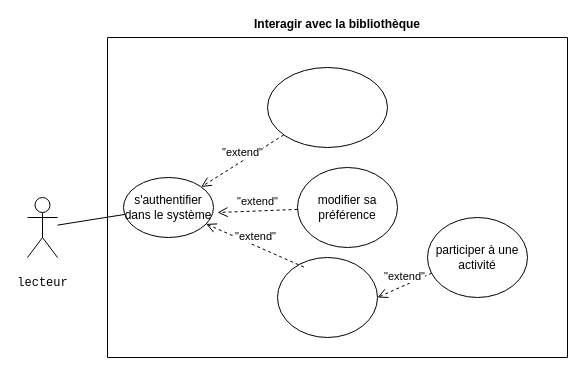
This 585x375 diagram has some shape labels left out. Each missing label, with the centre of its shape:
consulter des activités: point (327, 297)
réserver un livre: point (327, 107)
